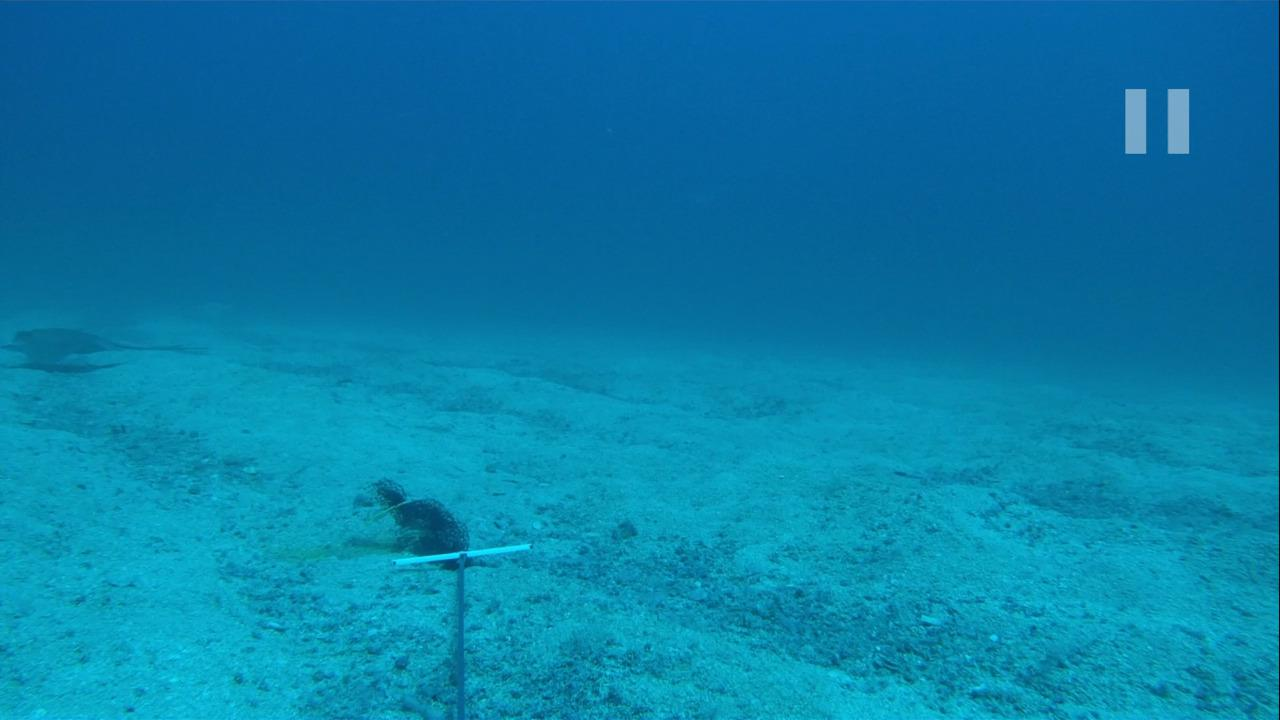myliobatis: (8, 314, 209, 368)
